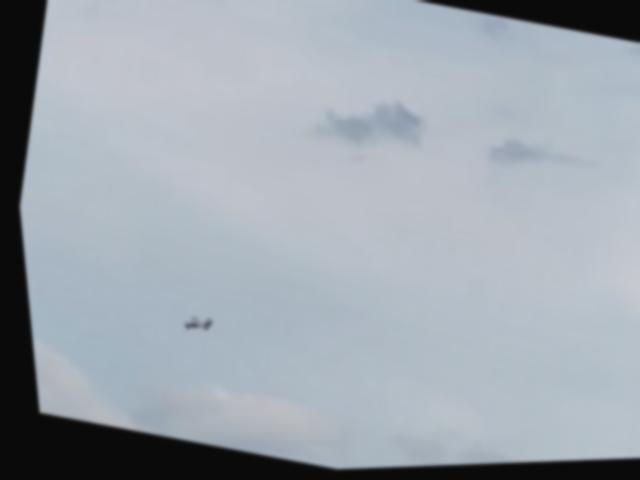uav: (167, 305, 216, 344)
